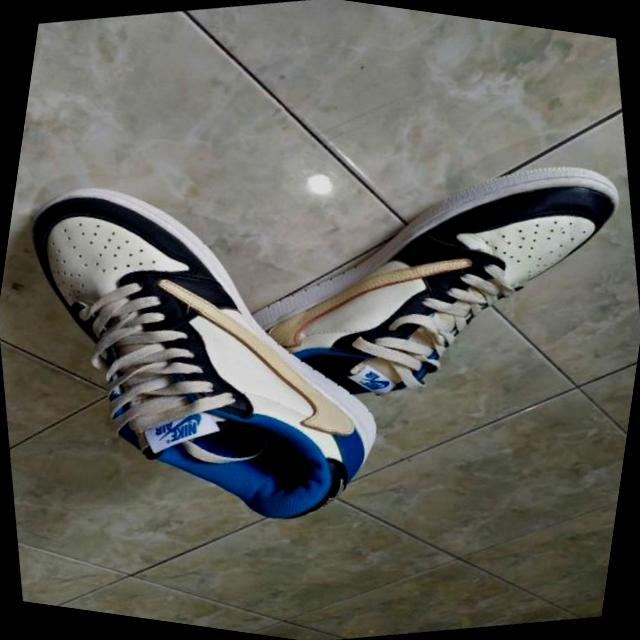nike_fake_jordan: (0, 116, 429, 593), (121, 93, 640, 481)
